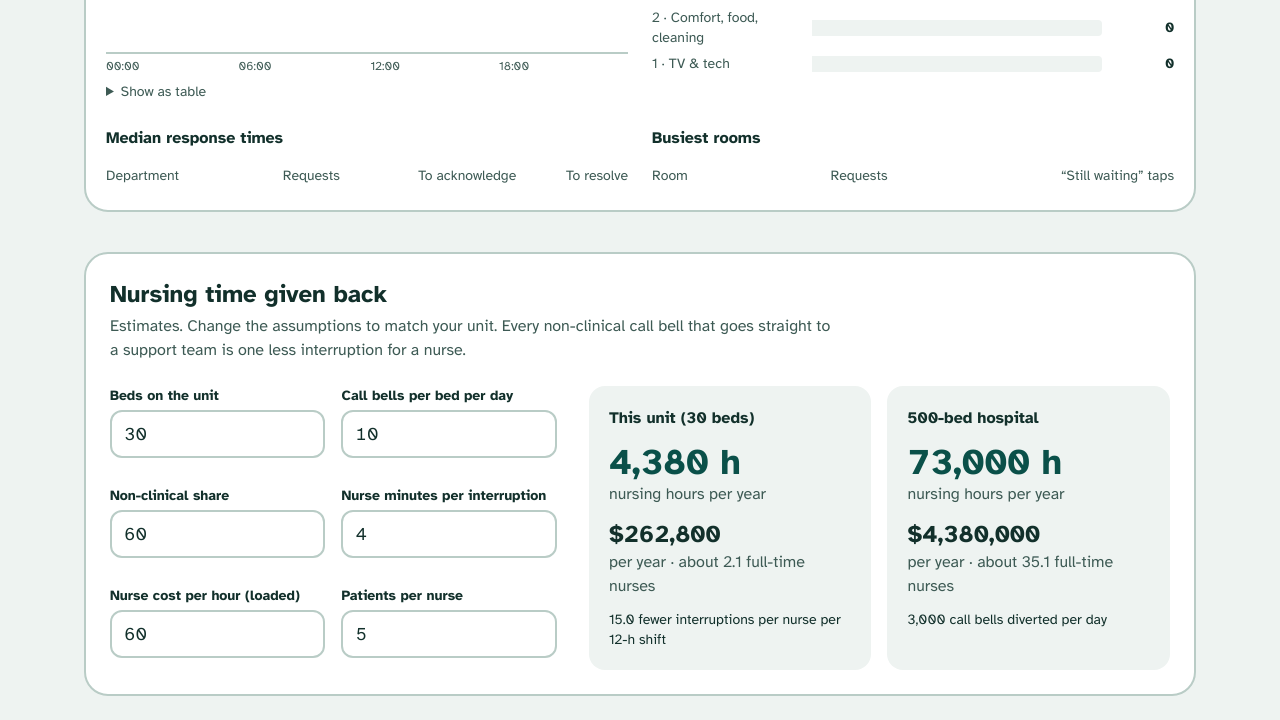
AdminPage › computes hours and dollars saved and reacts to assumptions
(page scrolled)
Expected: the text with test id "impact-unit-hours" reads "4,380 h", [609, 440, 741, 484]
Expected: the text with test id "impact-hospital-hours" reads "73,000 h", [908, 440, 1062, 484]
Replace the text in the number field with test id "impact-beds" with "60" at (218, 434), box [110, 410, 326, 458]
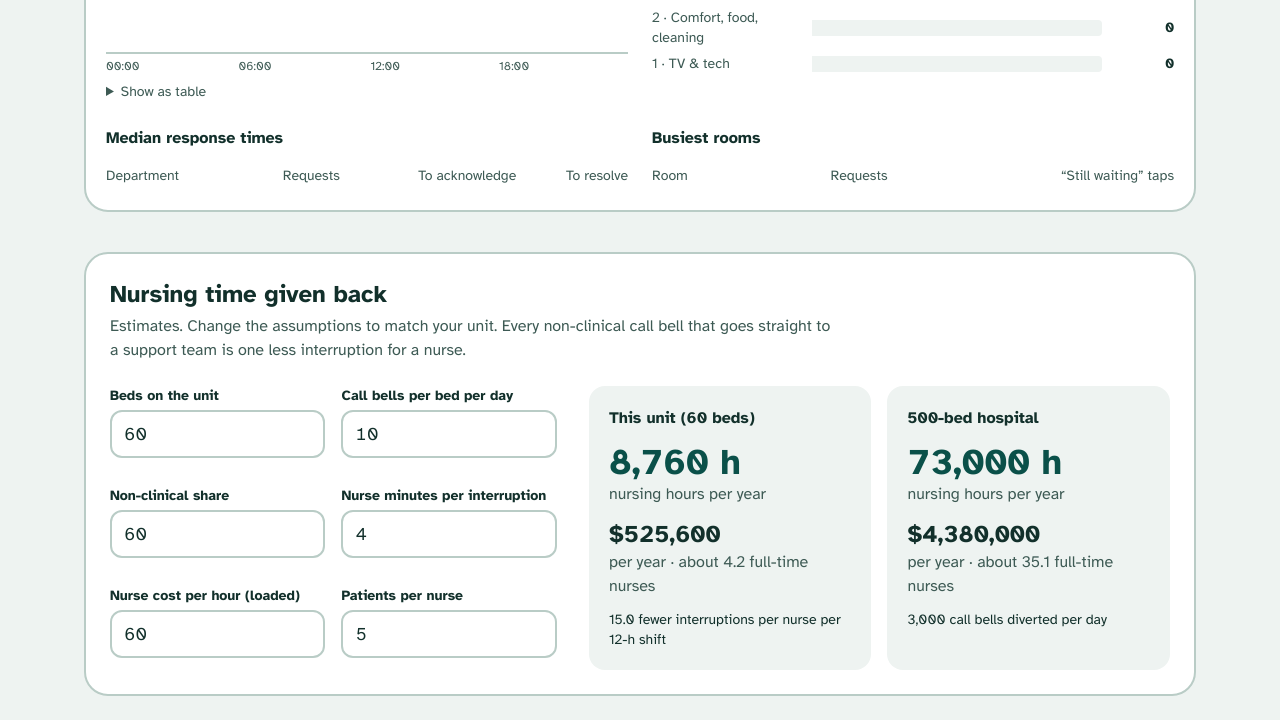
Expected: the text with test id "impact-unit-hours" reads "8,760 h", [609, 440, 741, 484]
